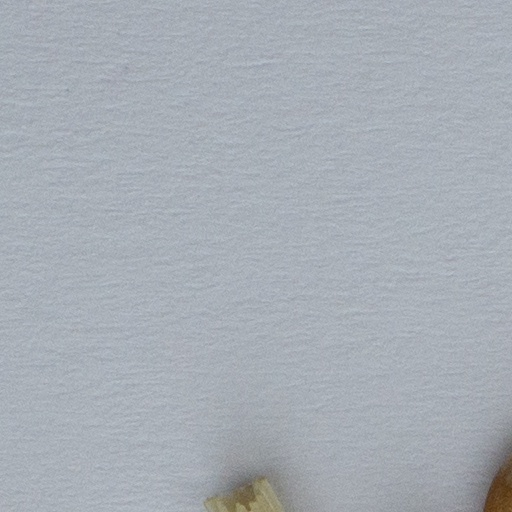Peel-poly: (205, 477, 284, 511)
